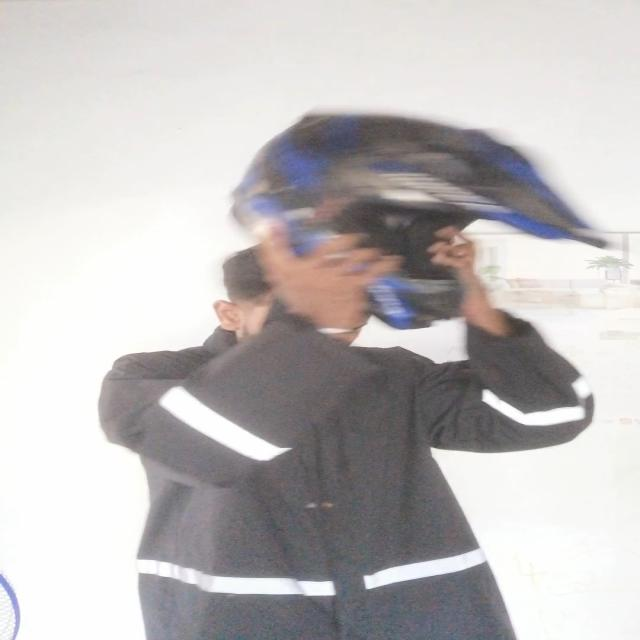Jacket_Wearer: (88, 319, 602, 640)
Person: (98, 229, 586, 640)
